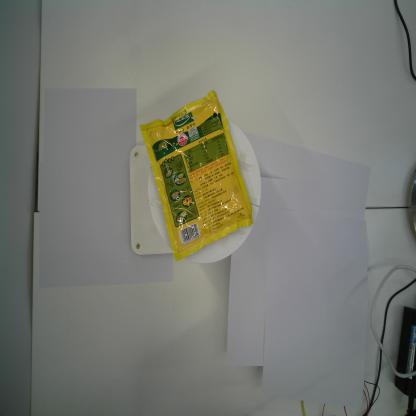Seasoner: (140, 87, 256, 262)
